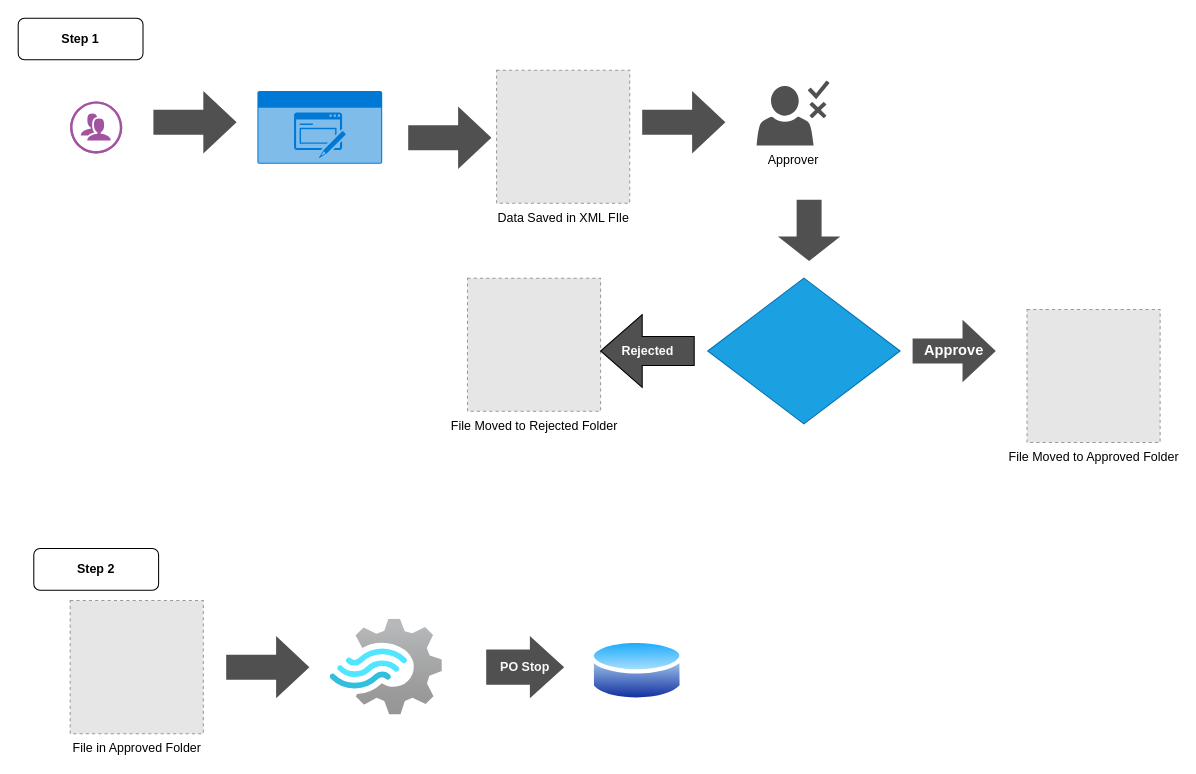
This 1196x774 diagram has some shape labels left out. Grey dashed boxes stand in for pictures. Here are the shapes that lost their labels. From the top down, the centre of each, then its label:
(95,126): Users
(319,126): BCP Form
(803,350): Approve/Reject
(386,666): Immediate Job
(637,670): Apriso DB
